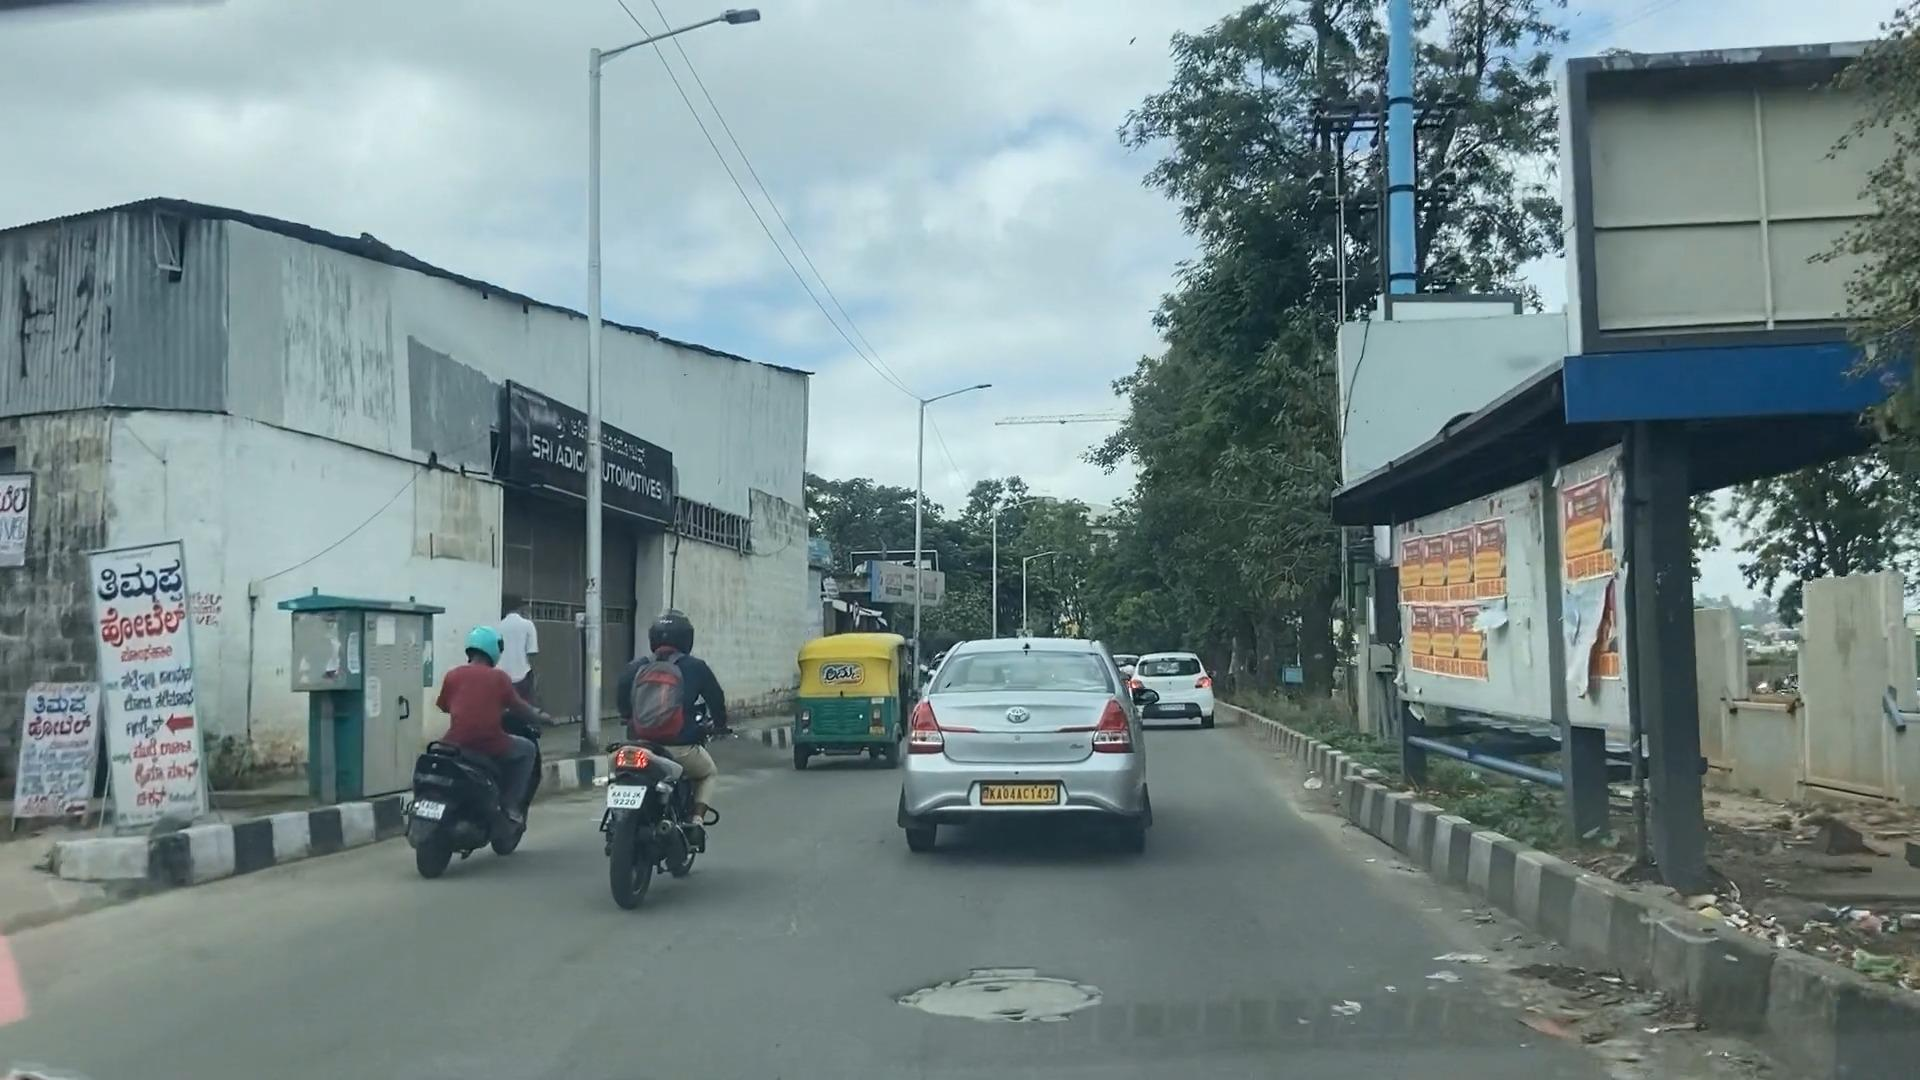LMV: (920, 640, 1137, 827), (450, 622, 531, 865), (618, 616, 686, 845), (798, 638, 899, 758), (1145, 655, 1215, 720)
RoadDamages: (1440, 932, 1654, 1068), (884, 957, 1105, 1030)
